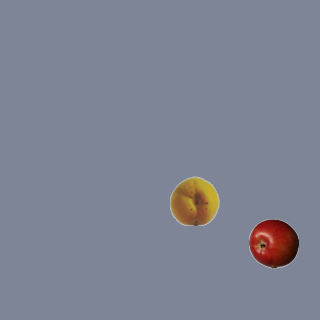Apple Braeburn: (248, 218, 298, 268)
Peach 2: (169, 175, 219, 225)
